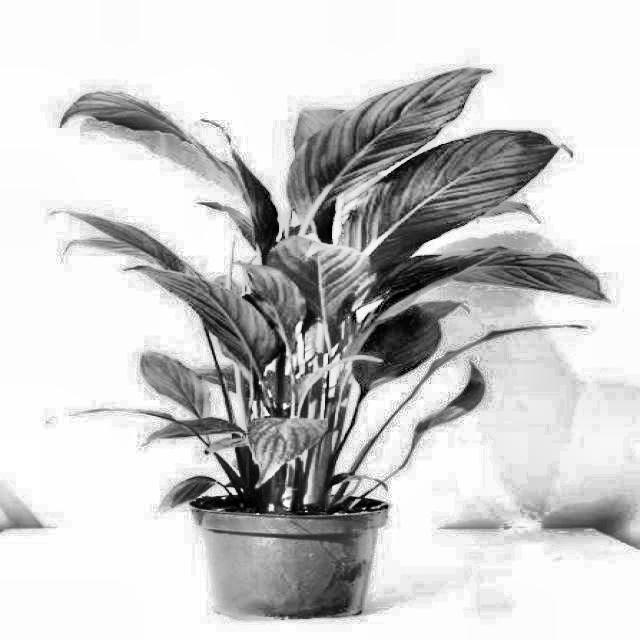plants: (71, 99, 569, 586)
